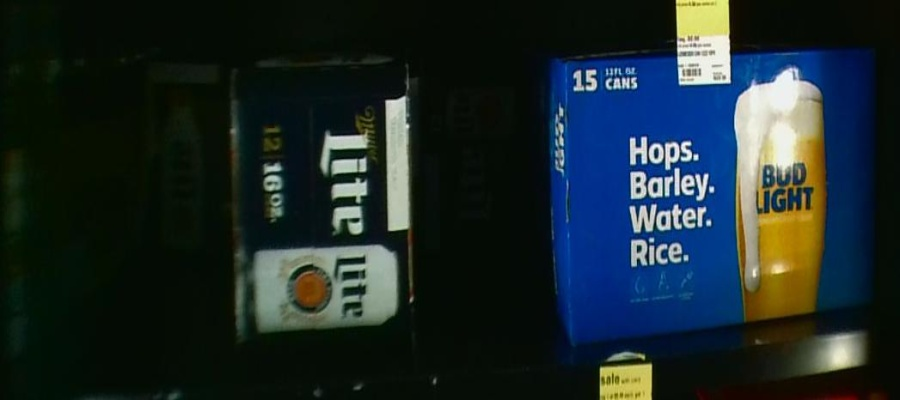bottle: (544, 46, 879, 328), (229, 57, 414, 378), (121, 60, 226, 291), (422, 77, 527, 277)
